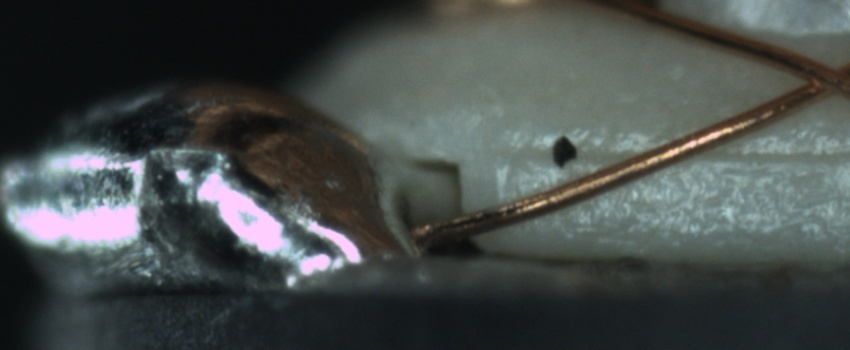CL: (778, 49, 848, 106)
DL: (502, 125, 850, 186)
